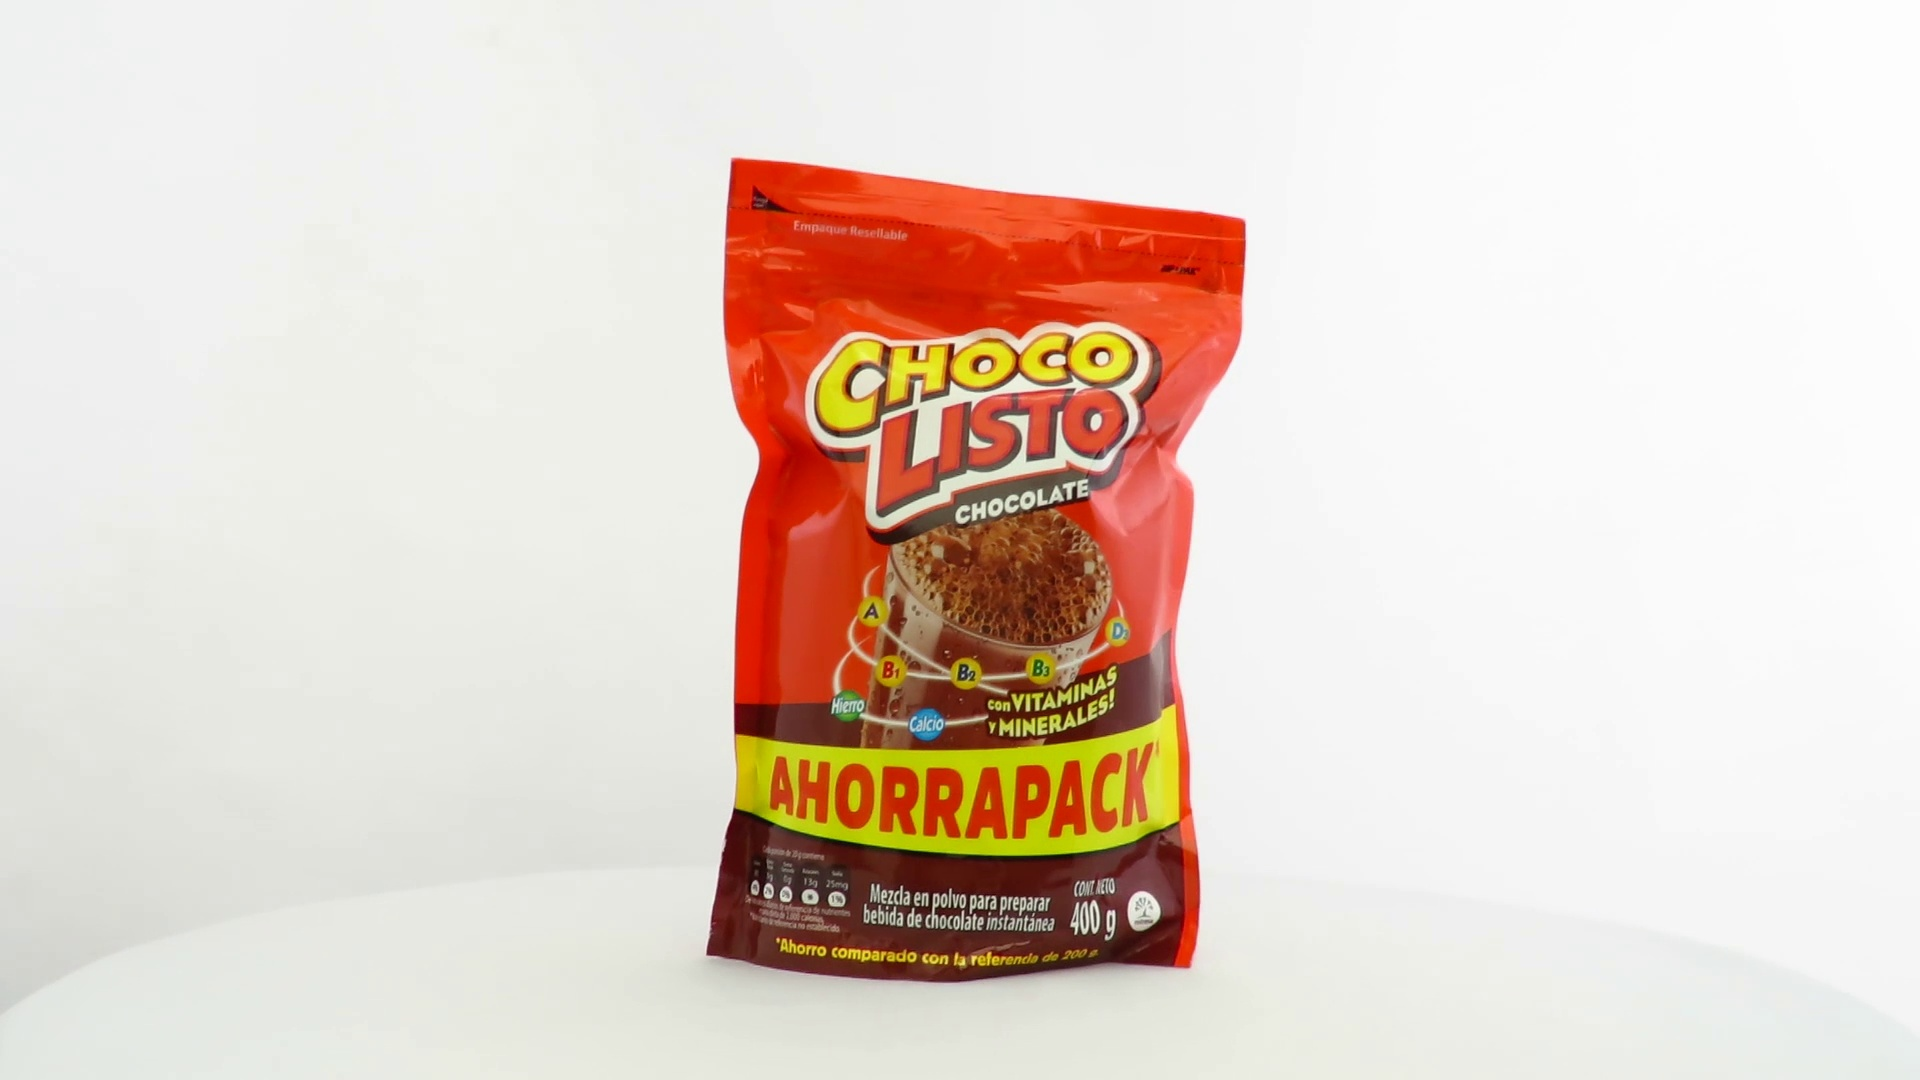COL0170103DYP40000: (702, 153, 1251, 989)
